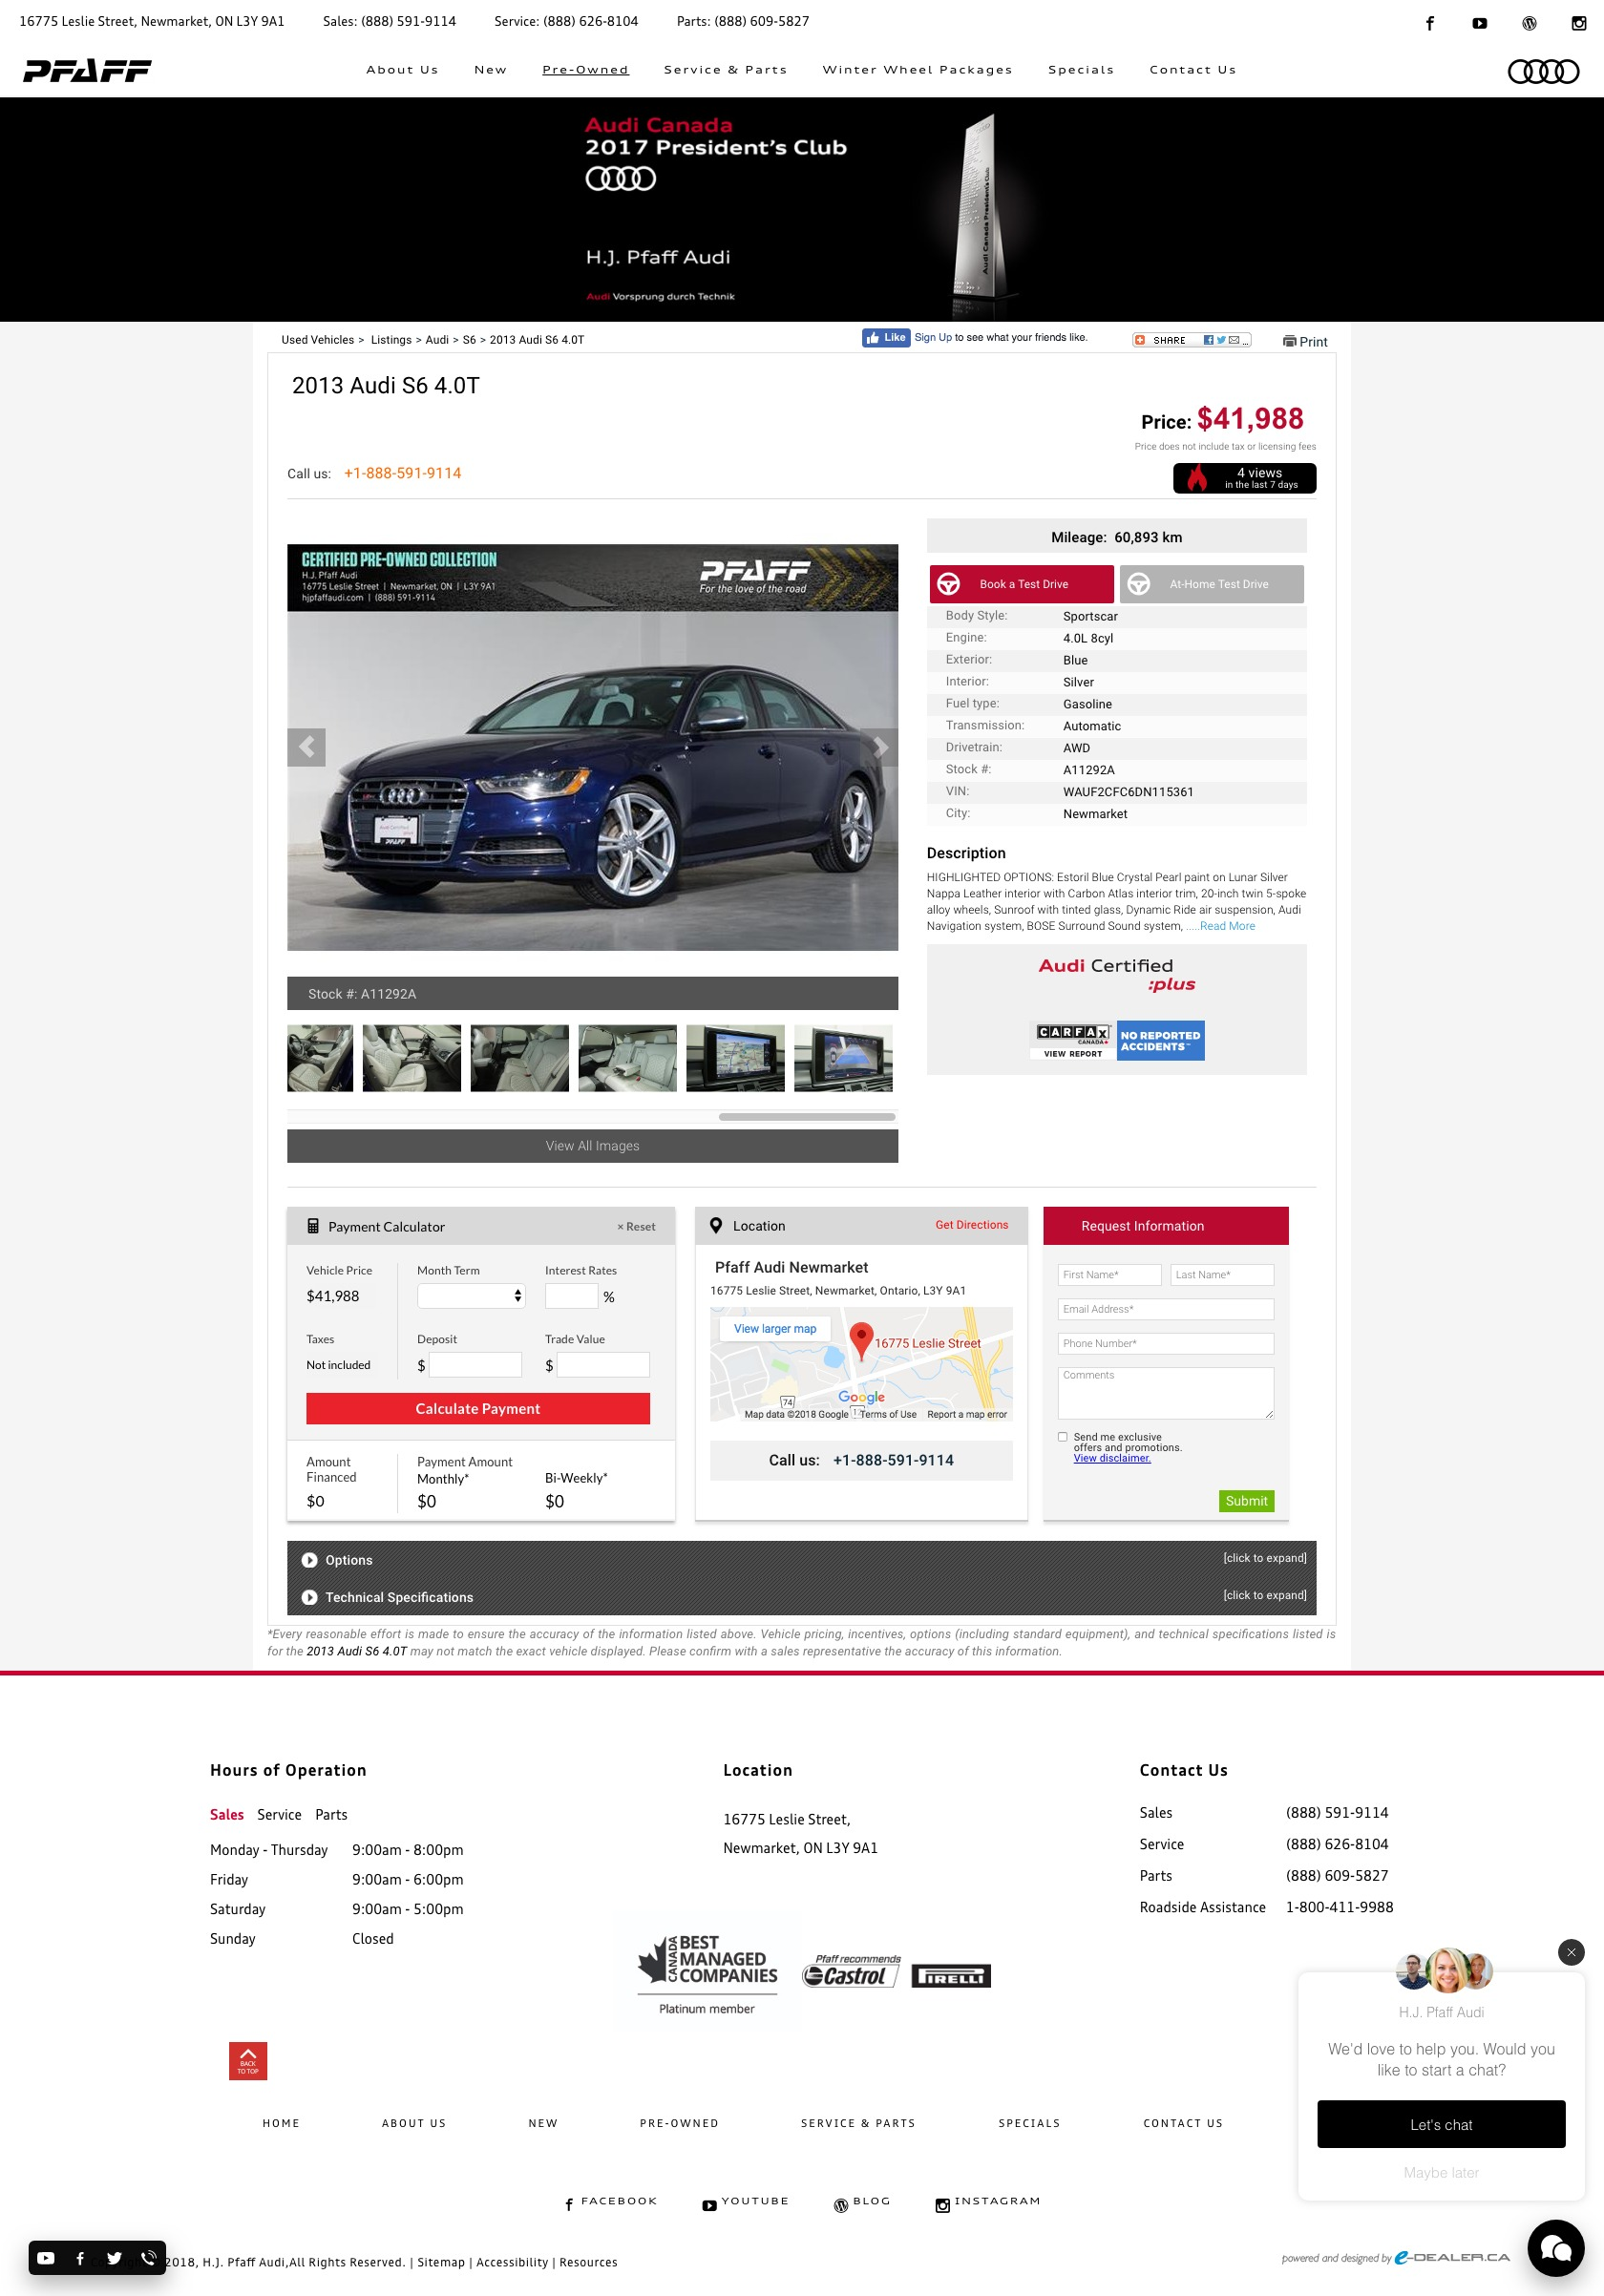car: (873, 736, 890, 761)
